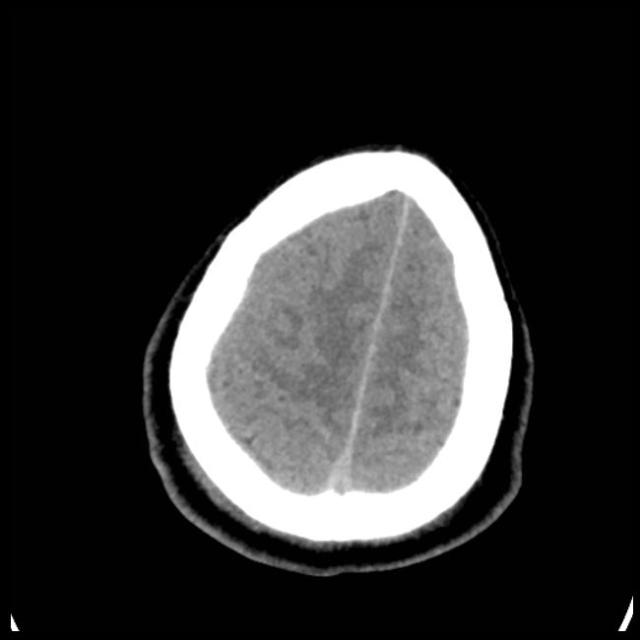lesion: (138, 139, 539, 579)
